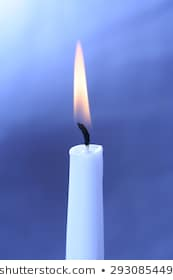Fire: (70, 36, 102, 143)
